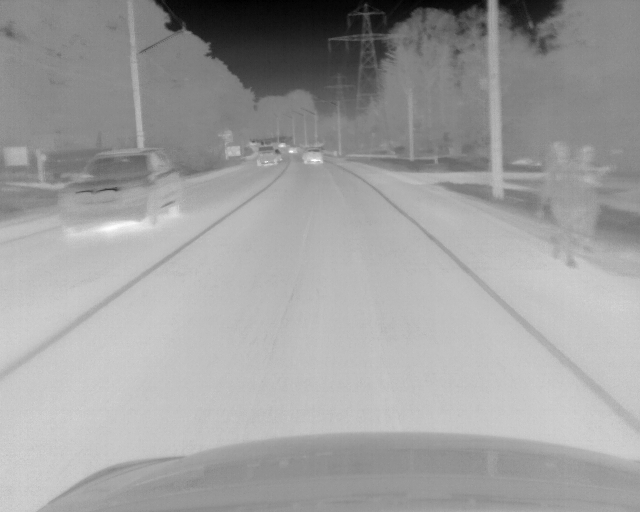car: (59, 147, 184, 238), (255, 147, 282, 168), (302, 149, 323, 167), (287, 146, 298, 154), (278, 141, 286, 149)
people: (544, 138, 582, 268), (577, 145, 611, 258)
